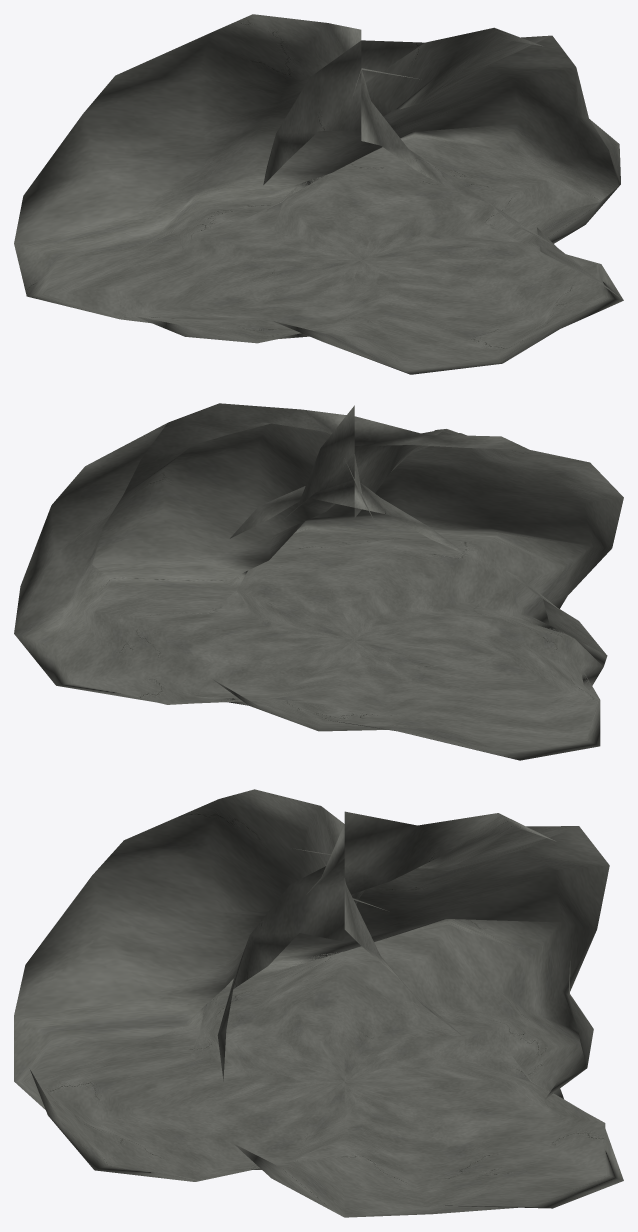
Rendered from nature.rock.boulder.glb.
3 views of the same model, one above another, from view 1: azimuth 30°, elevation 25°; view 2: azimuth 150°, elevation 25°; view 3: azimuth 270°, elevation 25° (orthographic). The views are drawn at different scales.
Parts seen in each view (by area): view 1: nature.rock.boulder; view 2: nature.rock.boulder; view 3: nature.rock.boulder.
Boxes of the visible parts, bbox=[...] form: nature.rock.boulder: bbox=[14, 14, 623, 374]; nature.rock.boulder: bbox=[14, 403, 623, 760]; nature.rock.boulder: bbox=[14, 789, 623, 1217].
Bounding box in the file's own units: 2.51 × 1.01 × 2.08.
Materials: 1 (1 with a texture image).
